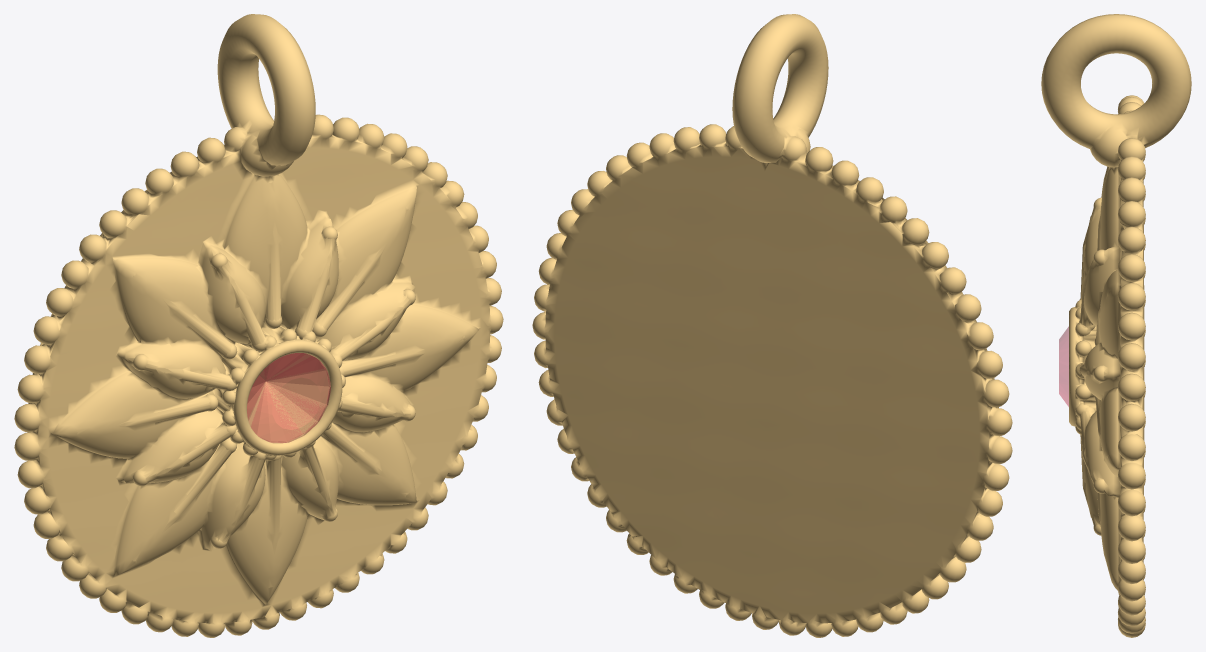
File: pendant_temple_lotus.glb
3 views of the same model, side by side, from view 1: azimuth 30°, elevation 25°; view 2: azimuth 150°, elevation 25°; view 3: azimuth 270°, elevation 25° (orthographic). The views are drawn at different scales.
Visible parts, largest first — view 1: gold, centre_stone; view 2: gold; view 3: gold, centre_stone.
Part boxes in pixels (box(x1,y1,x2,y2)): gold: box(14, 14, 503, 637); centre_stone: box(247, 353, 330, 442); gold: box(532, 14, 1012, 637); gold: box(1041, 14, 1191, 637); centre_stone: box(1059, 327, 1068, 406).
Size of the model in its own units: 0.0198 by 0.024 by 0.00548.
